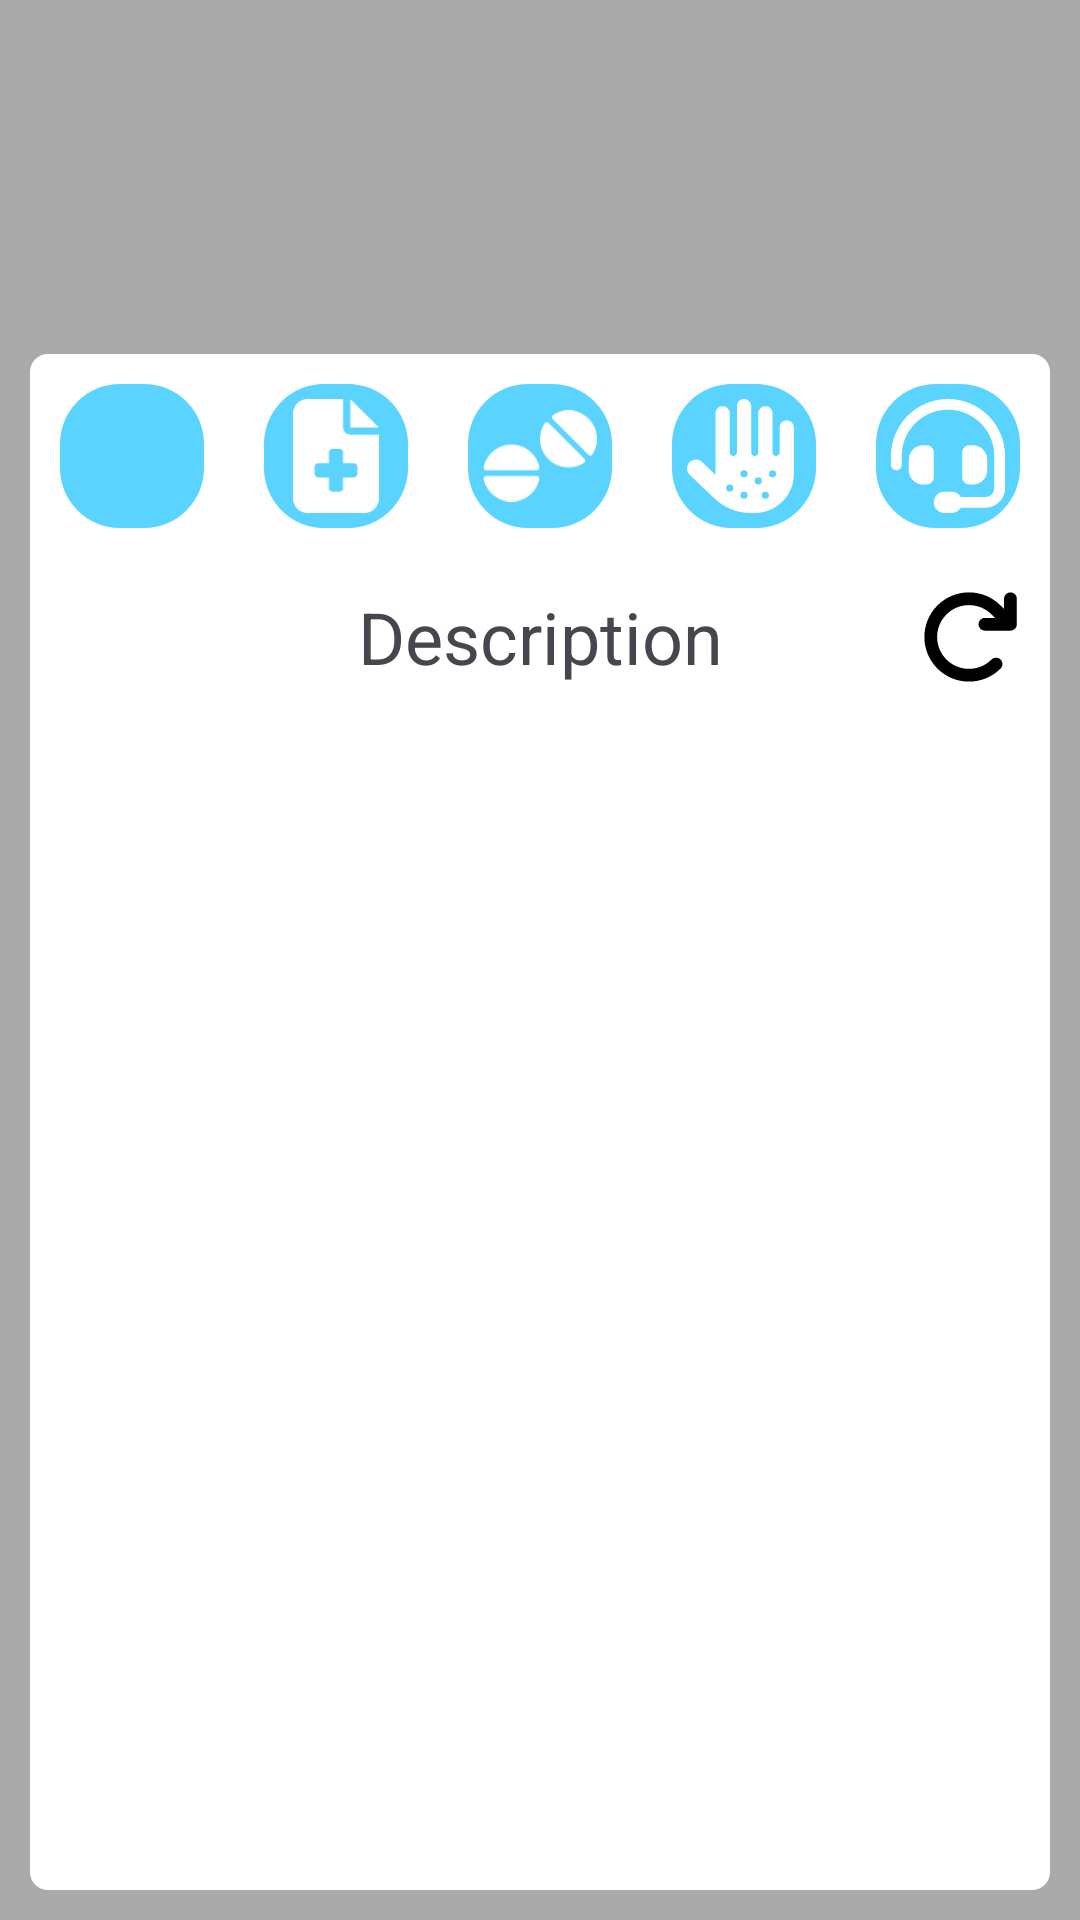

Where icons sit on this 1080×1920 app screen, as (x1, y1, x2, y2):
arrow rotate right: (924, 592, 1017, 682)
file medical: (264, 384, 408, 528)
hand dots: (672, 384, 816, 528)
headset: (876, 384, 1020, 528)
tablets: (468, 384, 612, 528)
